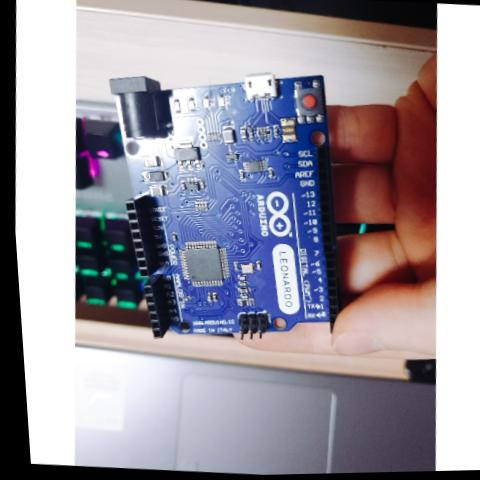Arduino-Leonardo: (83, 57, 365, 358)
